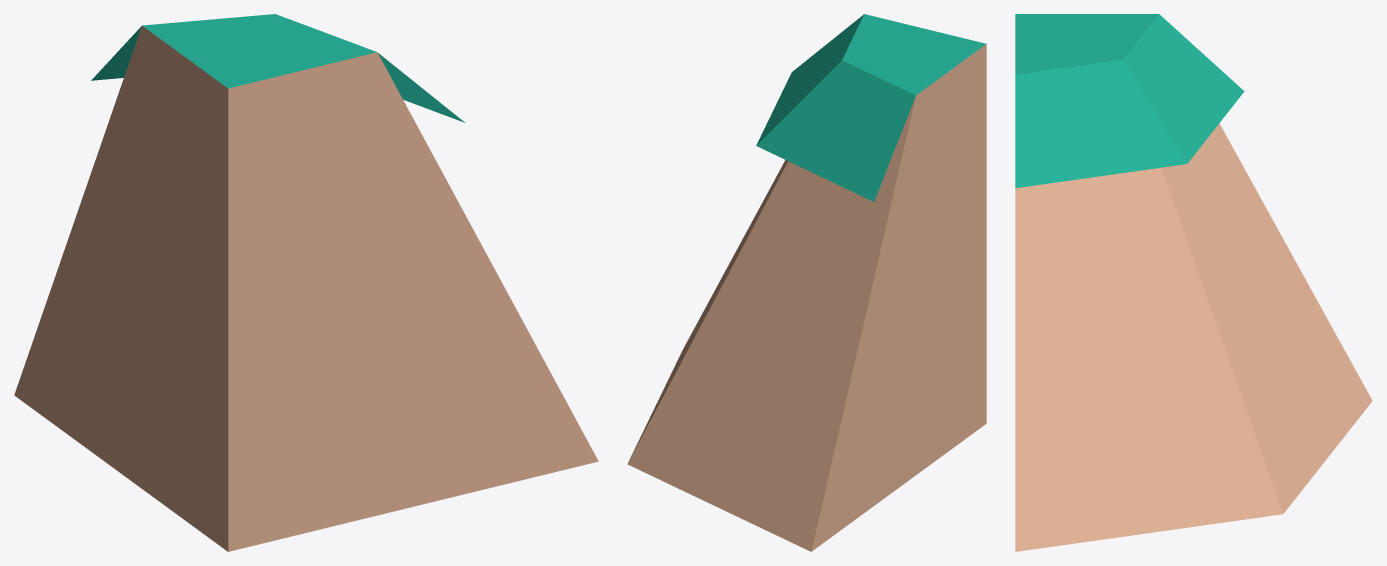
Rendered from cliff_halfCorner_rock.glb.
3 renders of one model, left to right at view 1: azimuth 30°, elevation 25°; view 2: azimuth 150°, elevation 25°; view 3: azimuth 270°, elevation 25°, orthographic. The views are drawn at different scales.
Parts seen in each view (by area): view 1: cliff_halfCorner_rock; view 2: cliff_halfCorner_rock; view 3: cliff_halfCorner_rock.
Part boxes in pixels (<box>): cliff_halfCorner_rock: <box>14,14,598,551</box>; cliff_halfCorner_rock: <box>627,14,986,551</box>; cliff_halfCorner_rock: <box>1015,14,1372,551</box>.
Size of the model in its own units: 0.4861 by 0.5808 by 0.4861.
